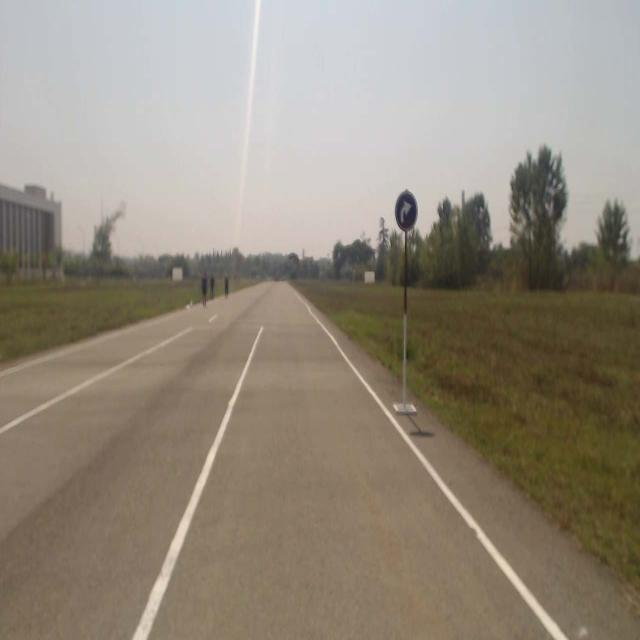sag: (395, 192, 417, 228)
